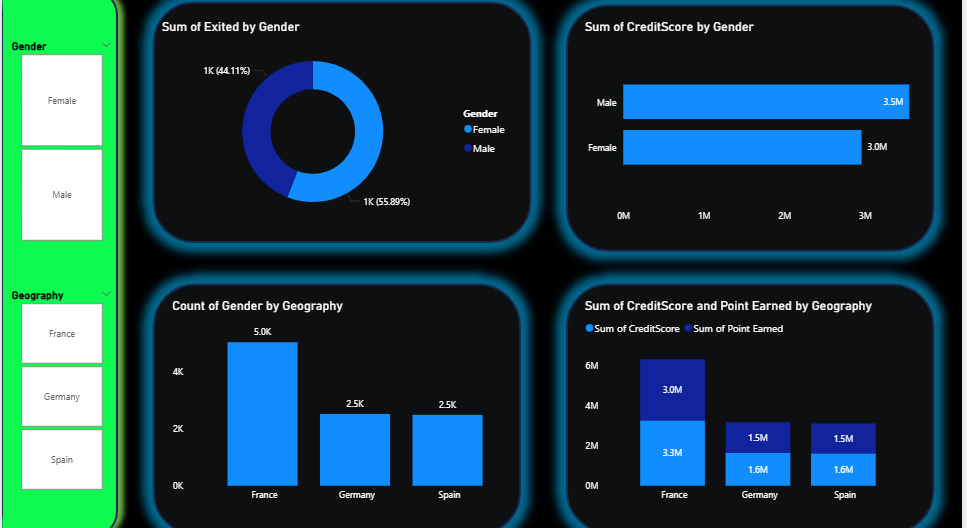

This screenshot's page, from the dashboard's own definition file:
{"tool":"powerbi","page":{"name":"Page 2","canvas":[1280,720],"ordinal":1},"visuals":[{"type":"donutChart","fields":{"Category":["Customer-Churn-Records.Gender"],"Y":["Sum(Customer-Churn-Records.Exited)"]},"box":[208,32,478,280],"z":0},{"type":"barChart","fields":{"Category":["Customer-Churn-Records.Gender"],"Y":["Sum(Customer-Churn-Records.CreditScore)"]},"box":[772,32,478,280],"z":1000},{"type":"columnChart","fields":{"Y":["CountNonNull(Customer-Churn-Records.Gender)"],"Category":["Customer-Churn-Records.Geography"]},"box":[222,404,478,280],"z":1001},{"type":"columnChart","title":"Sum of CreditScore and Point Earned by Geography","fields":{"Y":["Sum(Customer-Churn-Records.CreditScore)","Sum(Customer-Churn-Records.Point Earned)"],"Category":["Customer-Churn-Records.Geography"]},"box":[772,404,448,280],"z":1002},{"type":"slicer","fields":{"Values":["Customer-Churn-Records.Gender"]},"box":[0,54,158,280],"z":1003},{"type":"slicer","fields":{"Values":["Customer-Churn-Records.Geography"]},"box":[0,386,158,280],"z":1004}]}

Visuals, with their boxes on the page's 1280x720 design canvas (x1, y1, x2, y2). These are canvas units, not pixel positions in the 967x528 screenshot, which may show the page scaled, cropped or inside an application window:
donutChart - Customer-Churn-Records.Gender x Sum(Customer-Churn-Records.Exited): box=[208, 32, 686, 312]
barChart - Customer-Churn-Records.Gender x Sum(Customer-Churn-Records.CreditScore): box=[772, 32, 1250, 312]
columnChart - CountNonNull(Customer-Churn-Records.Gender) x Customer-Churn-Records.Geography: box=[222, 404, 700, 684]
"Sum of CreditScore and Point Earned by Geography" columnChart: box=[772, 404, 1220, 684]
slicer - Customer-Churn-Records.Gender: box=[0, 54, 158, 334]
slicer - Customer-Churn-Records.Geography: box=[0, 386, 158, 666]
